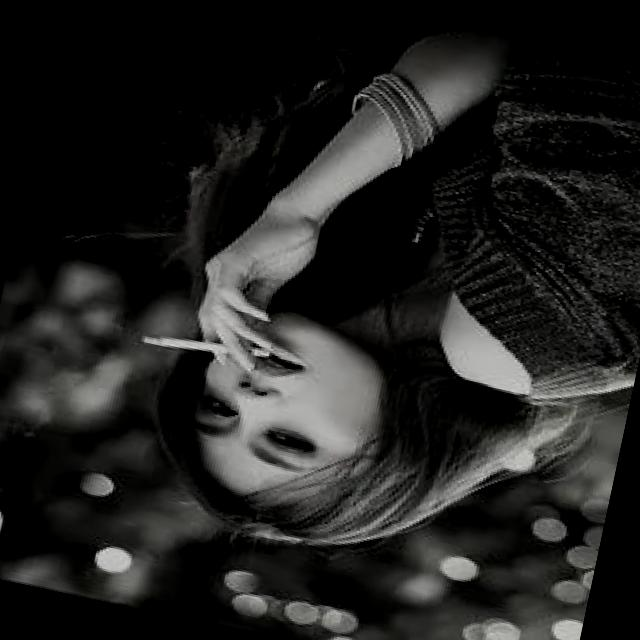smoke: (134, 318, 276, 371)
